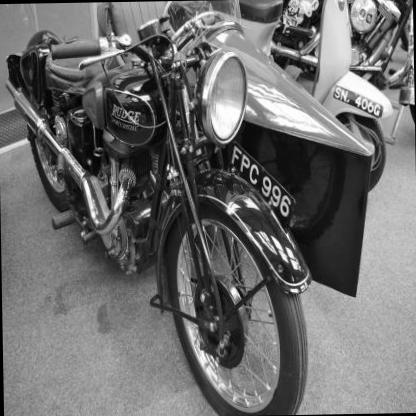moto: (5, 22, 362, 416)
